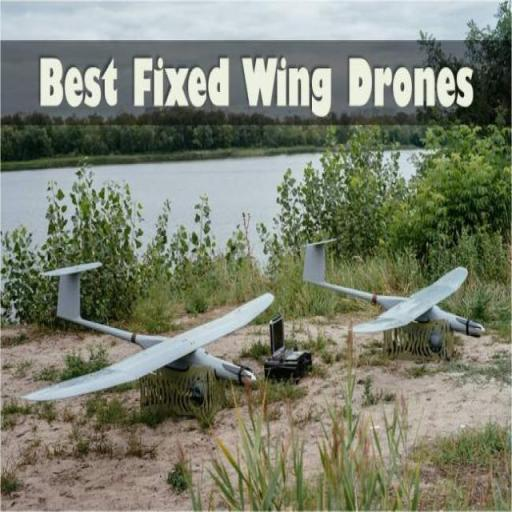uav: (299, 225, 495, 360)
